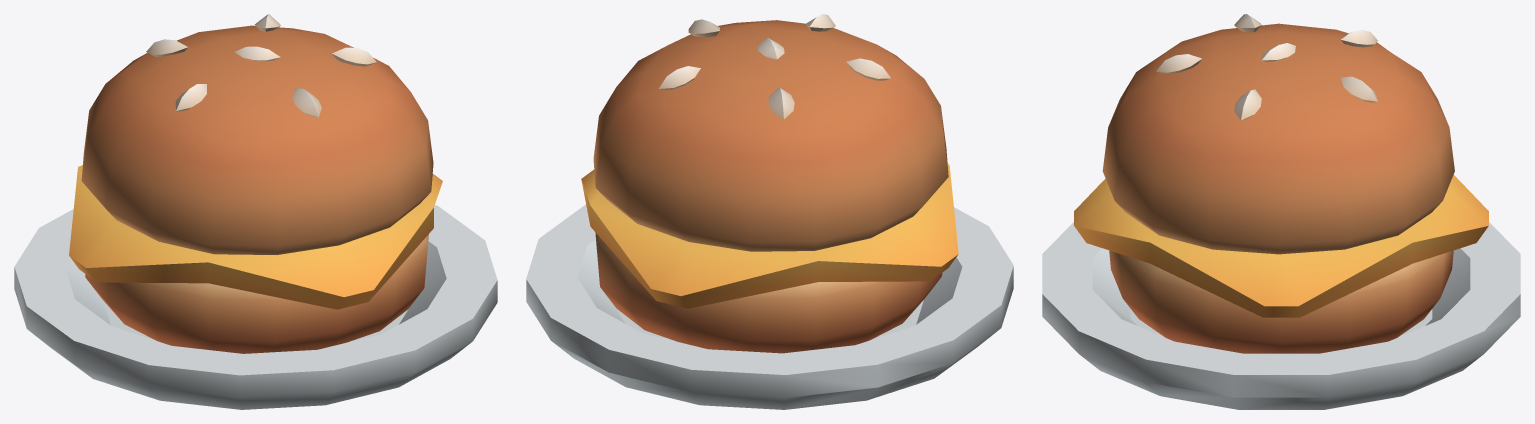
File: plate_bun_cheese.glb
3 views of the same model, side by side, from view 1: azimuth 30°, elevation 25°; view 2: azimuth 150°, elevation 25°; view 3: azimuth 270°, elevation 25° (orthographic).
Visible parts, largest first — view 1: food_ingredient_bun_bottom; view 2: food_ingredient_bun_bottom; view 3: food_ingredient_bun_bottom.
Boxes of the visible parts, <box> form: food_ingredient_bun_bottom: <box>14,14,497,409</box>; food_ingredient_bun_bottom: <box>526,14,1013,409</box>; food_ingredient_bun_bottom: <box>1042,14,1520,409</box>.
Size of the model in its own units: 0.95 by 0.6023 by 0.95.
Materials: 4 (4 with a texture image).
